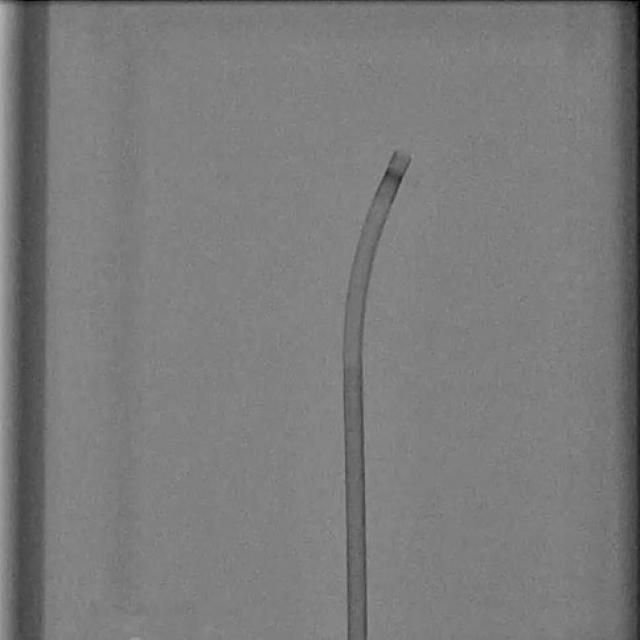bend: (342, 352, 363, 370)
entry: (347, 634, 368, 640)
marker: (384, 168, 404, 185)
tip: (394, 151, 413, 161)
